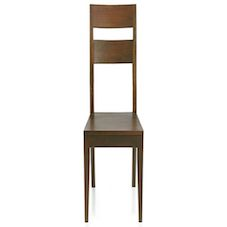chair: (71, 2, 175, 187)
